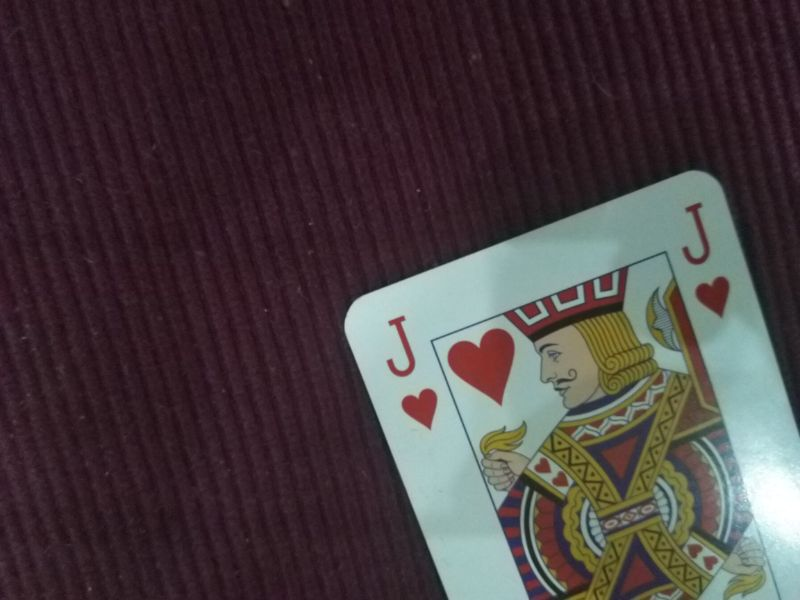Jh: (376, 310, 444, 434), (675, 198, 732, 326)
